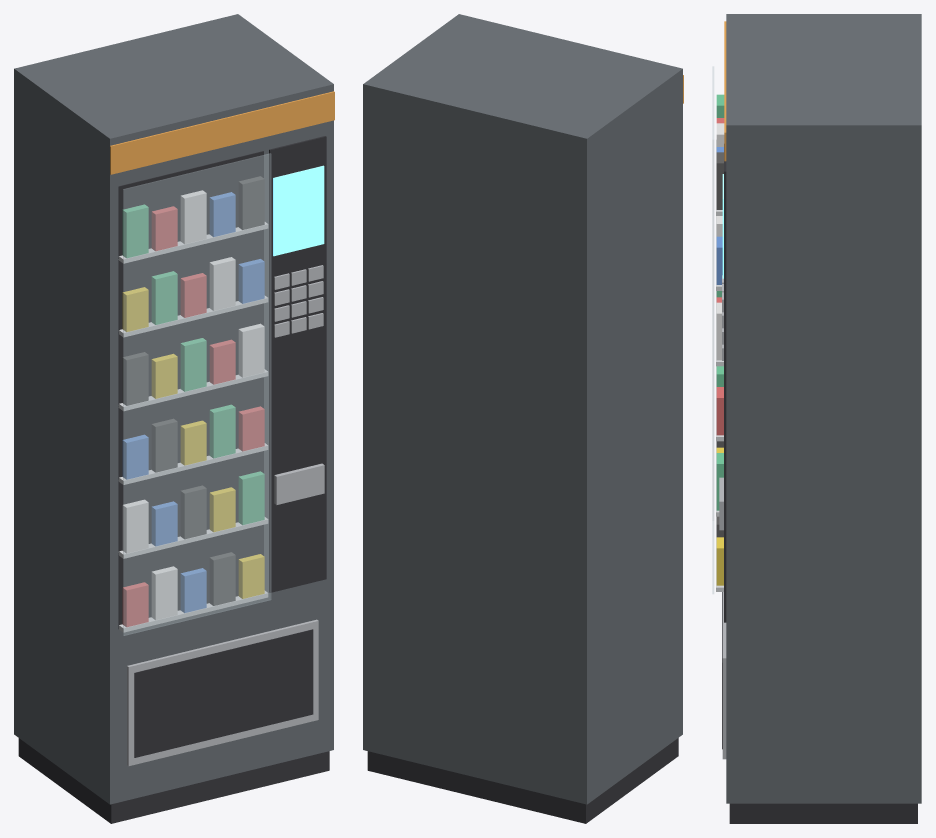
Rendered from maquina-58x43.glb.
3 views of the same model, side by side, from view 1: azimuth 30°, elevation 25°; view 2: azimuth 150°, elevation 25°; view 3: azimuth 270°, elevation 25° (orthographic).
Visible parts, largest first — view 1: corpo, vidro, fundo_vitrine, painel, retirada, faixa, base, retirada_moldura, tela, cartao, produto3_4, produto2_1 (+34 smaller); view 2: corpo, base; view 3: corpo, base, painel, vidro, retirada_moldura, produto5_4, faixa.
Part boxes in pixels (bbox=[...]): corpo: bbox=[14, 14, 333, 804]; vidro: bbox=[123, 153, 271, 635]; fundo_vitrine: bbox=[118, 151, 263, 628]; painel: bbox=[269, 136, 326, 592]; retirada: bbox=[134, 629, 313, 757]; faixa: bbox=[110, 91, 334, 174]; base: bbox=[18, 738, 329, 823]; retirada_moldura: bbox=[127, 619, 318, 766]; tela: bbox=[273, 165, 324, 256]; cartao: bbox=[274, 463, 324, 504]; produto3_4: bbox=[238, 323, 264, 377]; produto2_1: bbox=[151, 418, 177, 472]; corpo: bbox=[363, 14, 682, 804]; base: bbox=[367, 738, 678, 823]; corpo: bbox=[726, 14, 921, 803]; base: bbox=[729, 803, 917, 823]; painel: bbox=[724, 144, 726, 622]; vidro: bbox=[712, 66, 713, 593]; retirada_moldura: bbox=[722, 592, 726, 759]; produto5_4: bbox=[716, 152, 723, 209]; faixa: bbox=[724, 21, 726, 161].
Bounding box in the file's own units: 0.58 × 1.7 × 0.4602.
